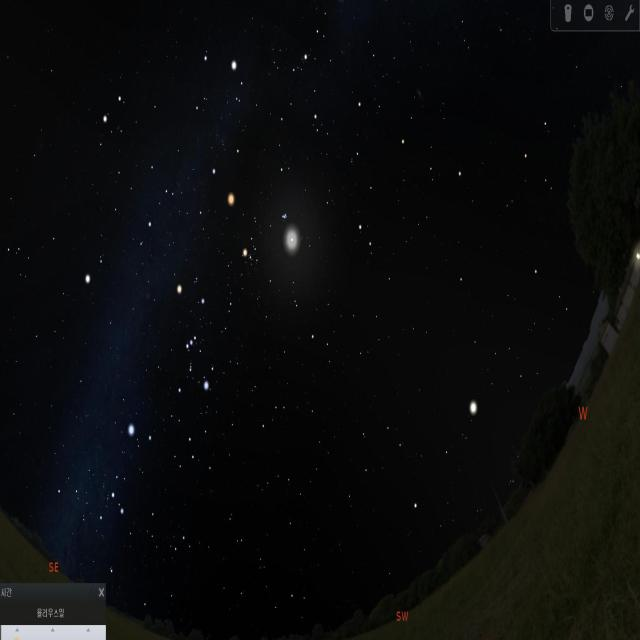canis_major: (106, 427, 156, 522)
canis_minor: (81, 248, 112, 297)
gemini: (100, 88, 180, 244)
moon: (275, 213, 314, 264)
orion: (170, 280, 212, 408)
pleiades: (277, 207, 295, 236)
taurus: (236, 193, 293, 295)
